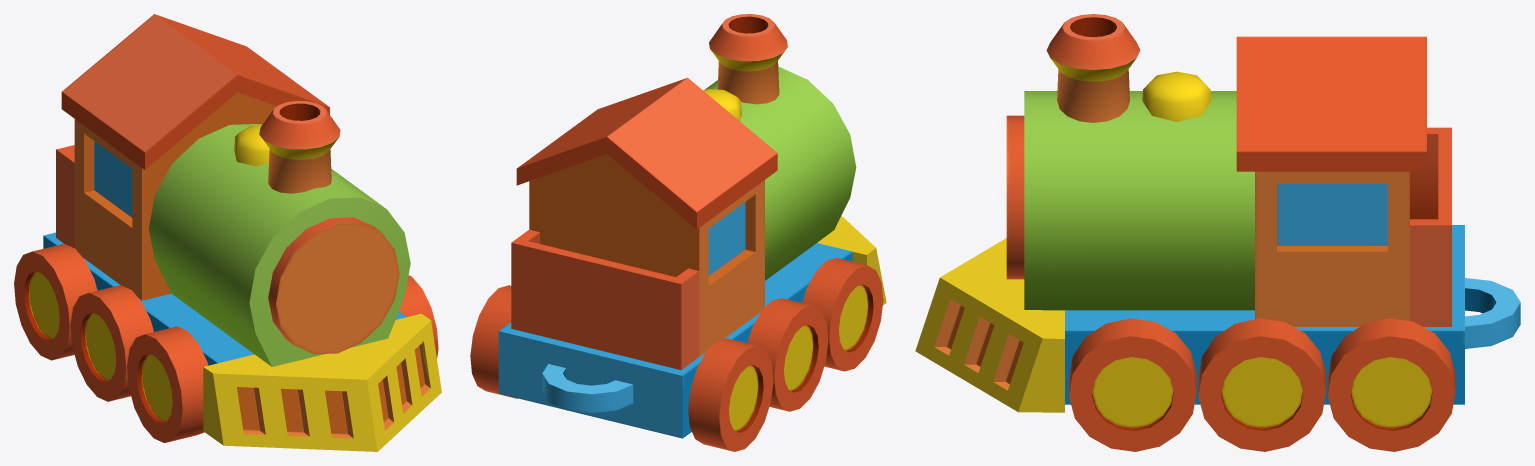
The model's file is train.FBX.
3 views of the same model, side by side, from view 1: azimuth 30°, elevation 25°; view 2: azimuth 150°, elevation 25°; view 3: azimuth 270°, elevation 25° (orthographic). The views are drawn at different scales.
Parts seen in each view (by area): view 1: train; view 2: train; view 3: train.
Part boxes in pixels (x1,y1,x2,y2): train: (14, 14, 441, 451); train: (470, 14, 886, 451); train: (915, 14, 1520, 451).
Bounding box in the file's own units: 33.84 × 38.98 × 60.55.
